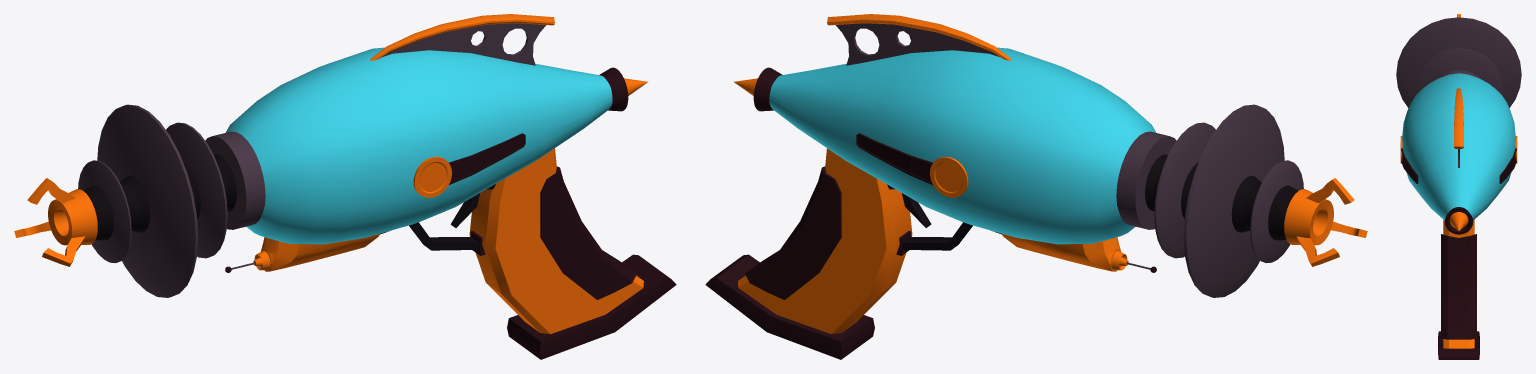
The model's file is Spacegun_LP.fbx.
The picture shows the model from 3 angles, left to right: view 1: azimuth 30°, elevation 25°; view 2: azimuth 150°, elevation 25°; view 3: azimuth 270°, elevation 25°; orthographic projection. The views are drawn at different scales.
Parts seen in each view (by area): view 1: Cylinder015; view 2: Cylinder015; view 3: Cylinder015.
Part boxes in pixels (left/top/right/bottom): Cylinder015: left=14, top=14, right=676, bottom=359; Cylinder015: left=705, top=14, right=1367, bottom=359; Cylinder015: left=1396, top=14, right=1521, bottom=359.
Bounding box in the file's own units: 203 × 105 × 54.92.
